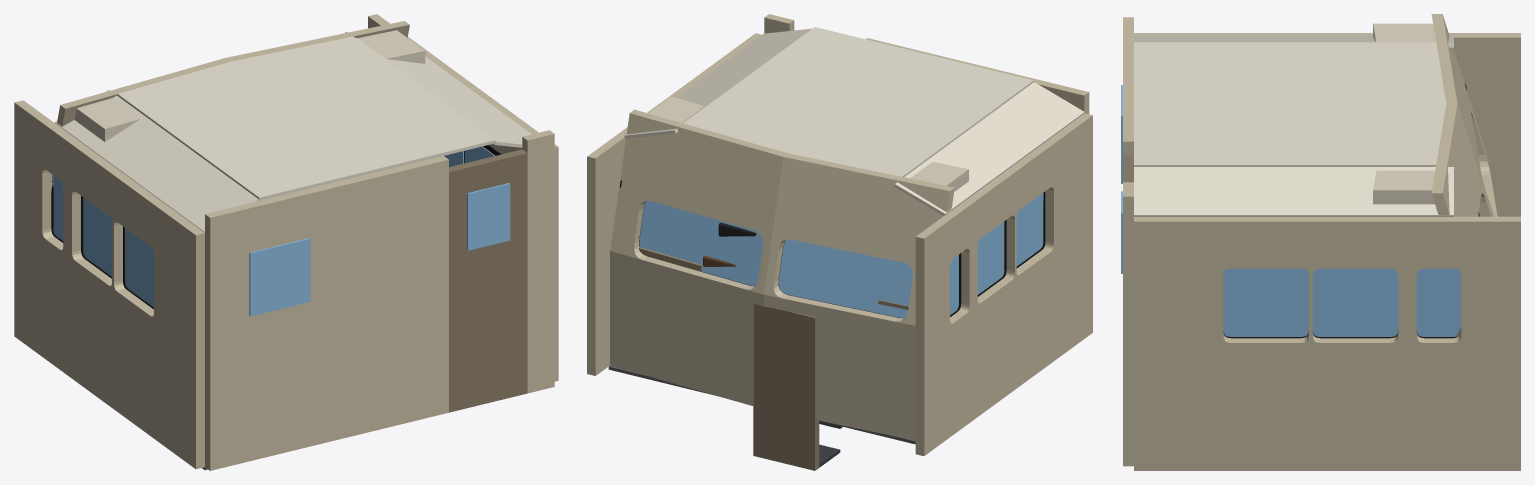
The picture shows the model from 3 angles, left to right: view 1: azimuth 30°, elevation 25°; view 2: azimuth 150°, elevation 25°; view 3: azimuth 270°, elevation 25°; orthographic projection. The views are drawn at different scales.
Parts seen in each view (by area): view 1: wall_L, ceil_c, back_c, back_l, back_door, ceil_s-1, back_r, back_win, ceil_s1, back_doorwin, wall_R, sideglass_-11 (+6 smaller); view 2: wall_L, ceil_c, front_low_r, front_rake_r, front_rake_l, front_low_l, front_door, ceil_s-1, glass-1, wall_R, glass1, ceil_s1 (+6 smaller); view 3: wall_R, ceil_c, ceil_s1, wall_L, sideglass_11, sideglass_12, front_rake_r, back_r, sideglass_10, front_rake_l, overhead_r, ceil_s-1 (+3 smaller).
Boxes of the visible parts, bbox=[...] form: wall_L: bbox=[14, 100, 204, 469]; ceil_c: bbox=[117, 36, 494, 200]; back_c: bbox=[329, 156, 448, 440]; back_l: bbox=[205, 184, 333, 470]; back_door: bbox=[449, 149, 527, 412]; ceil_s-1: bbox=[54, 90, 259, 232]; back_r: bbox=[522, 130, 554, 393]; back_win: bbox=[249, 238, 310, 316]; ceil_s1: bbox=[345, 32, 531, 147]; back_doorwin: bbox=[467, 183, 510, 250]; wall_R: bbox=[368, 14, 558, 381]; sideglass_-11: bbox=[83, 197, 111, 276]; wall_L: bbox=[915, 113, 1092, 455]; ceil_c: bbox=[683, 27, 1033, 180]; front_low_r: bbox=[610, 251, 753, 405]; front_rake_r: bbox=[610, 109, 787, 294]; front_rake_l: bbox=[764, 153, 954, 325]; front_low_l: bbox=[816, 302, 915, 440]; front_door: bbox=[753, 303, 819, 470]; ceil_s-1: bbox=[894, 82, 1084, 215]; glass-1: bbox=[778, 239, 912, 317]; wall_R: bbox=[587, 33, 761, 375]; glass1: bbox=[639, 200, 762, 285]; ceil_s1: bbox=[624, 28, 811, 138]; wall_R: bbox=[1134, 216, 1520, 470]; ceil_c: bbox=[1134, 42, 1446, 166]; ceil_s1: bbox=[1134, 167, 1453, 216]; wall_L: bbox=[1134, 33, 1520, 216]; sideglass_11: bbox=[1312, 268, 1398, 336]; sideglass_12: bbox=[1223, 268, 1308, 336]; front_rake_r: bbox=[1431, 103, 1492, 216]; back_r: bbox=[1123, 182, 1133, 466]; sideglass_10: bbox=[1416, 268, 1461, 336]; front_rake_l: bbox=[1431, 14, 1493, 216]; overhead_r: bbox=[1373, 170, 1434, 204]; ceil_s-1: bbox=[1134, 35, 1453, 47].
Bounding box in the file's own units: 3.05 × 2.49 × 2.73.
